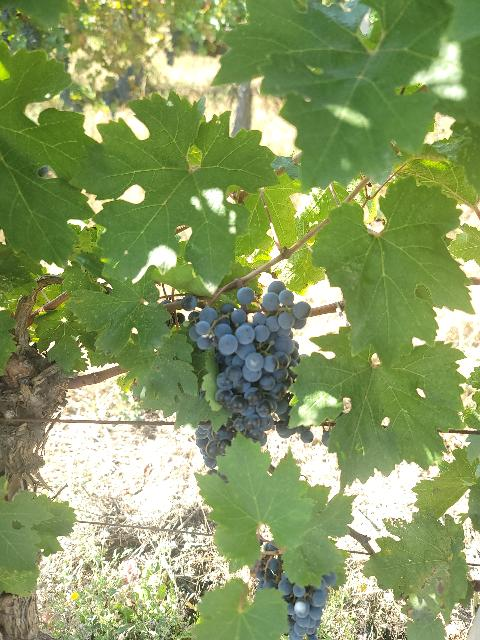grapes: (251, 535, 338, 640), (189, 281, 311, 355), (215, 351, 296, 441)
